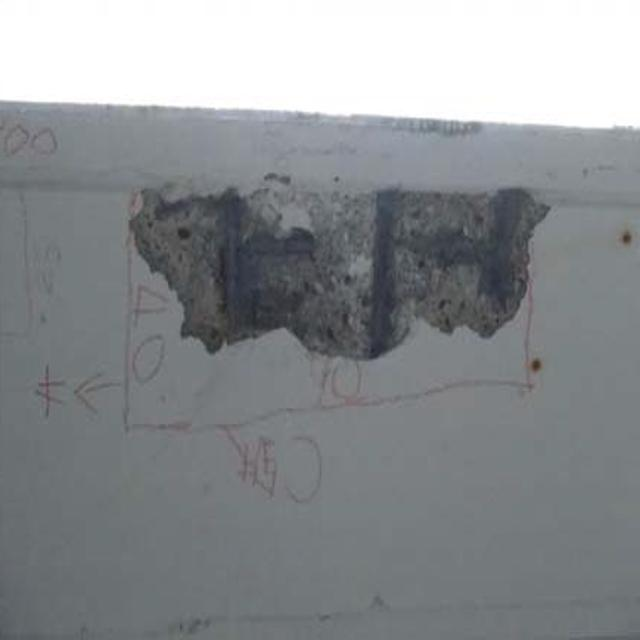spalling: (114, 172, 549, 362)
